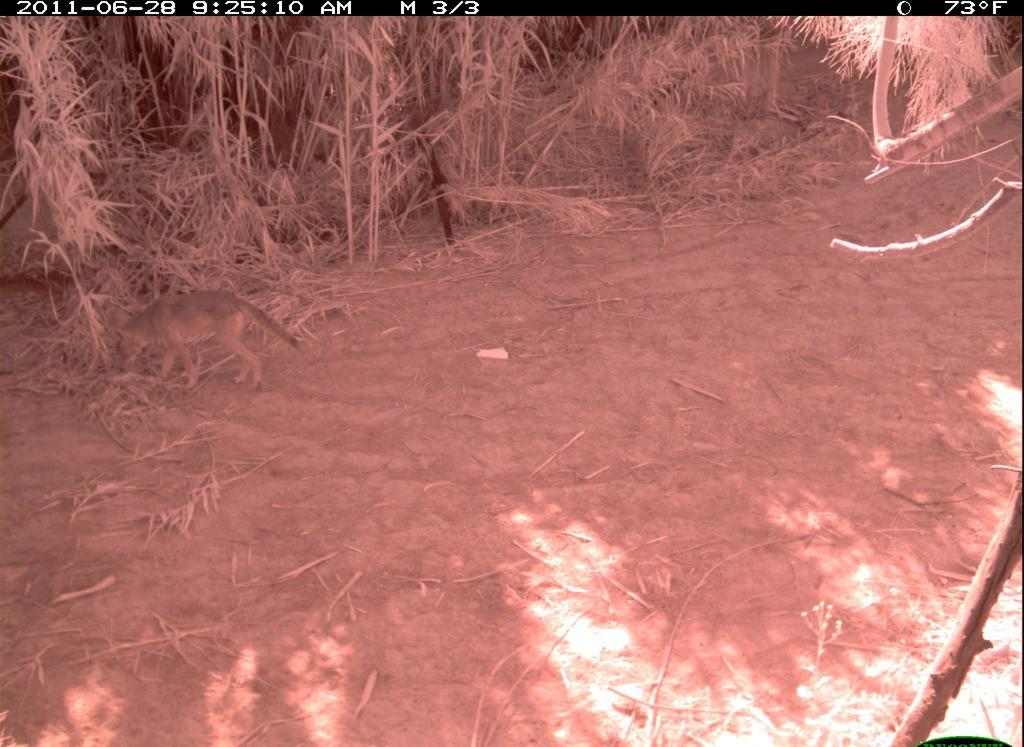coyote: (105, 287, 314, 395)
